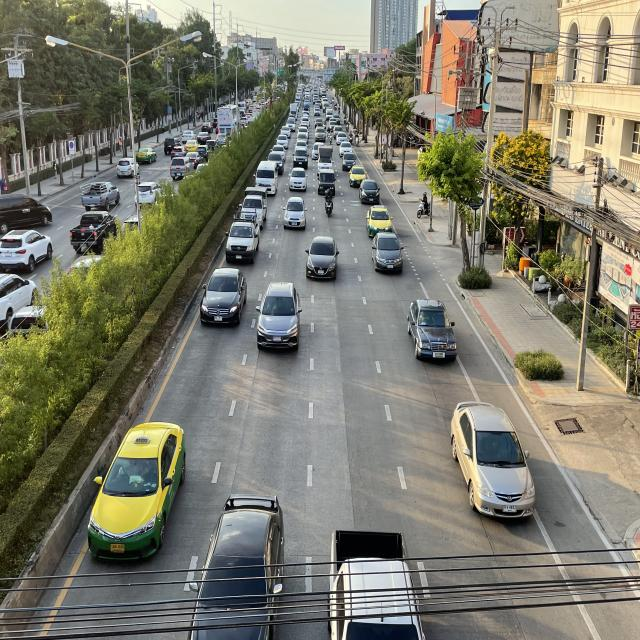bike: (324, 188, 335, 216)
truck: (316, 144, 336, 177)
